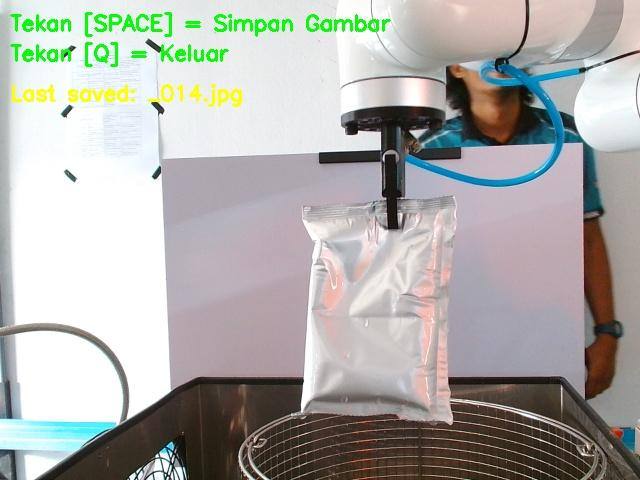retort-pouch: (293, 197, 454, 424)
